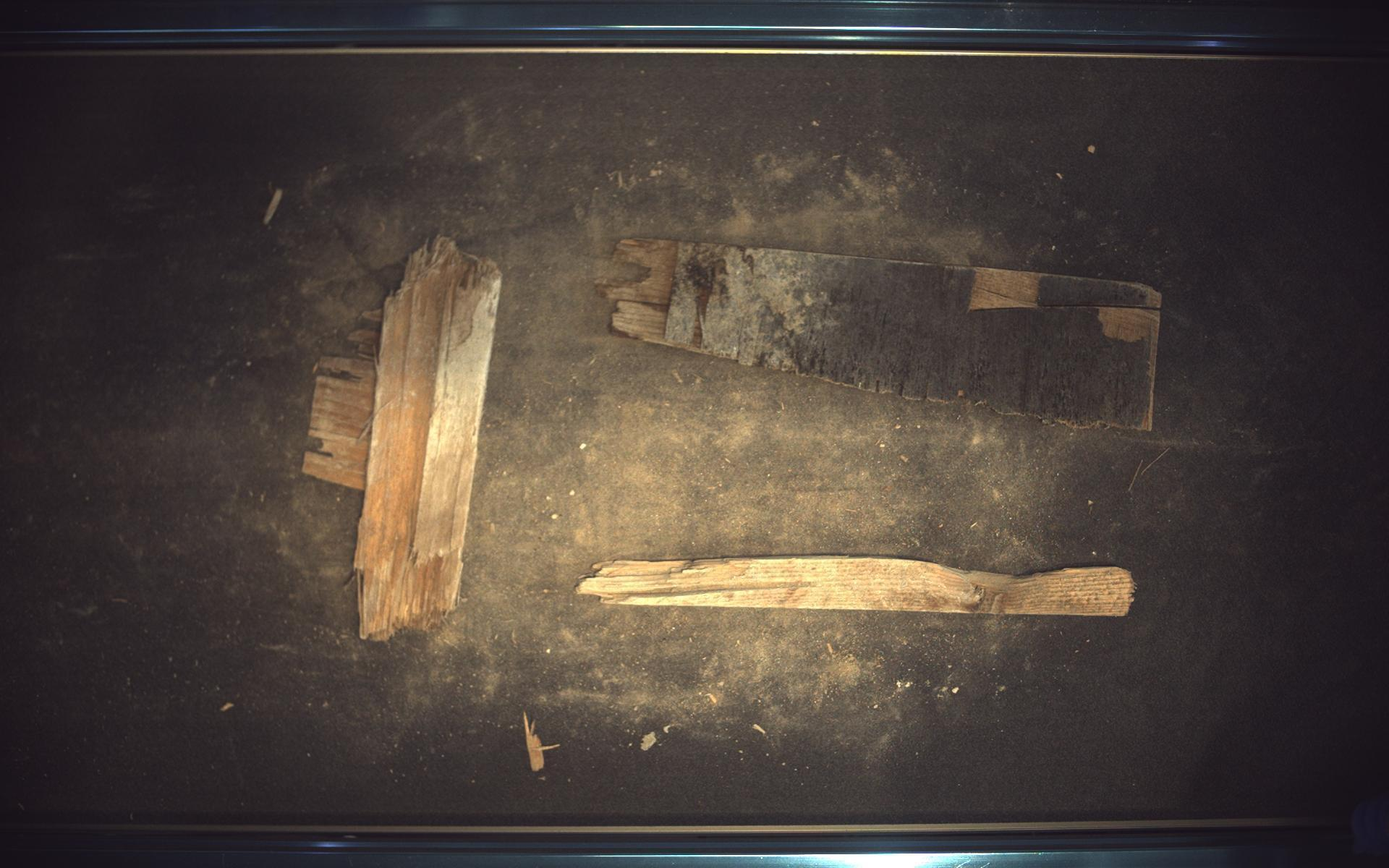wood: (598, 238, 1164, 430), (302, 236, 501, 641), (577, 557, 1138, 617)
